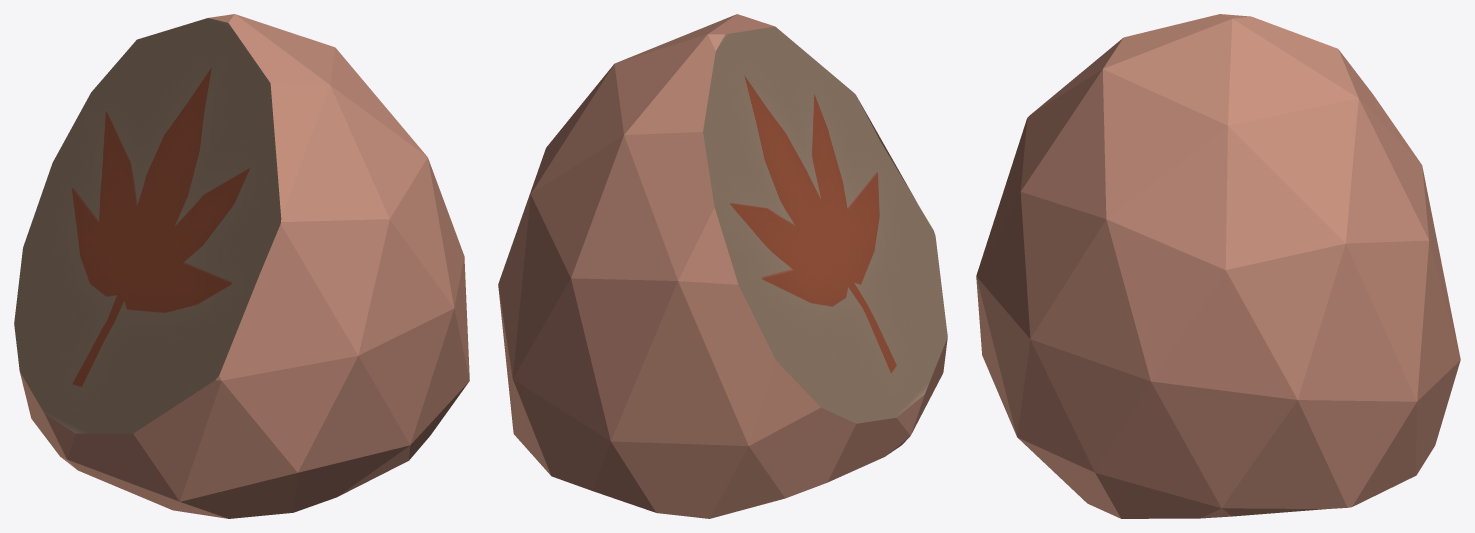
The model's file is leafe stone.fbx.
3 views of the same model, side by side, from view 1: azimuth 30°, elevation 25°; view 2: azimuth 150°, elevation 25°; view 3: azimuth 270°, elevation 25° (orthographic). The views are drawn at different scales.
Visible parts, largest first — view 1: 棱角球; view 2: 棱角球; view 3: 棱角球.
Part boxes in pixels (x1=…): 棱角球: x1=14, y1=14, x2=469, y2=518; 棱角球: x1=498, y1=14, x2=947, y2=518; 棱角球: x1=976, y1=14, x2=1460, y2=518.
Bounding box in the file's own units: 2800 × 2939 × 2982.
2 materials, 1 textured.
